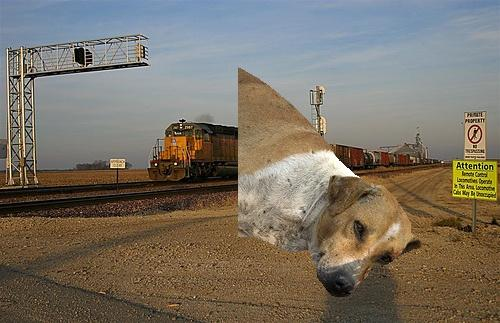tampered: (239, 68, 422, 297)
